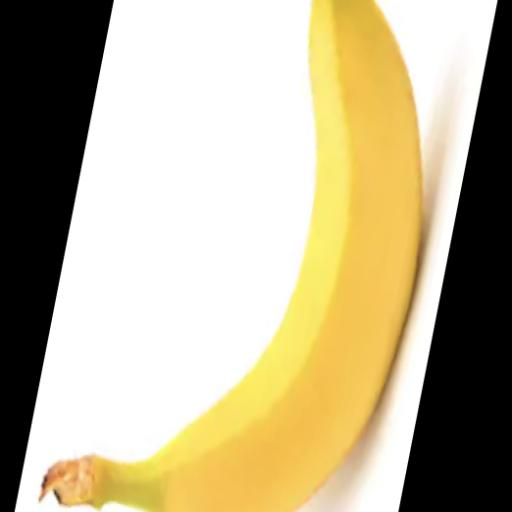banana-ripe: (31, 0, 444, 512)
